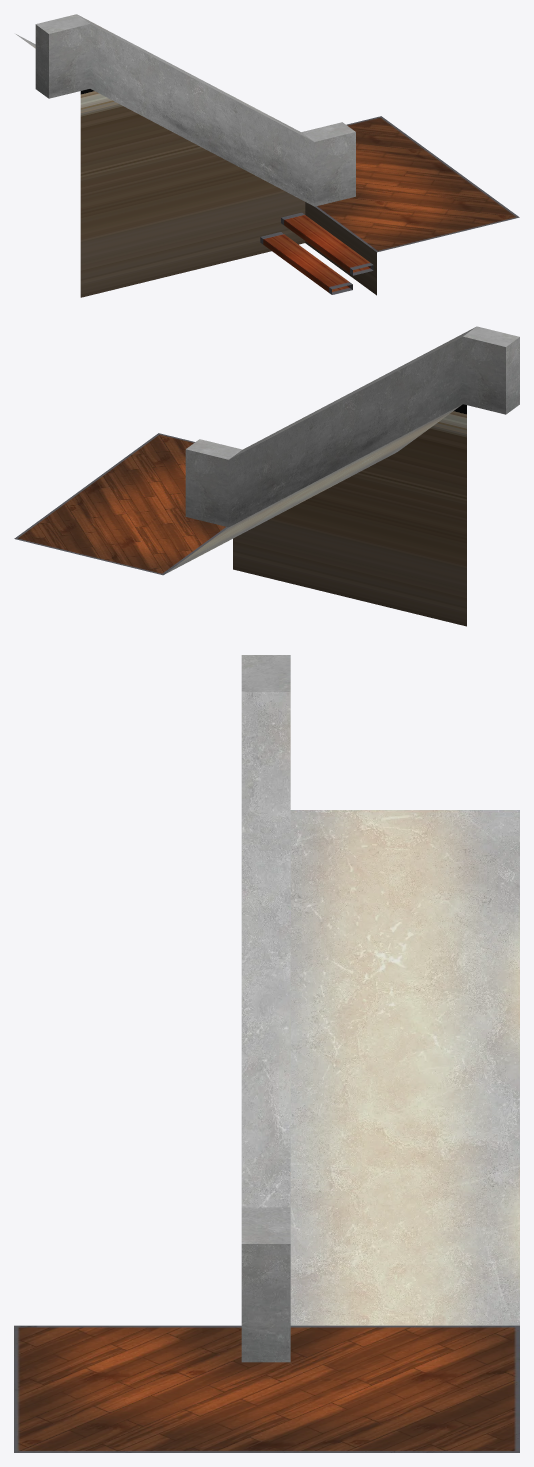
Rendered from pm-stairs-02.glb.
3 views of the same model, one above another, from view 1: azimuth 30°, elevation 25°; view 2: azimuth 150°, elevation 25°; view 3: azimuth 270°, elevation 25° (orthographic). The views are drawn at different scales.
Visible parts, largest first — view 1: Stairs_01_Floor; view 2: Stairs_01_Floor; view 3: Stairs_01_Floor.
Part boxes in pixels (x1=…): Stairs_01_Floor: x1=16, y1=14, x2=519, y2=297; Stairs_01_Floor: x1=14, y1=326, x2=519, y2=626; Stairs_01_Floor: x1=14, y1=655, x2=519, y2=1452.
Size of the model in its own units: 9.9 by 6.5 by 5.81.
2 materials, 2 textured.
